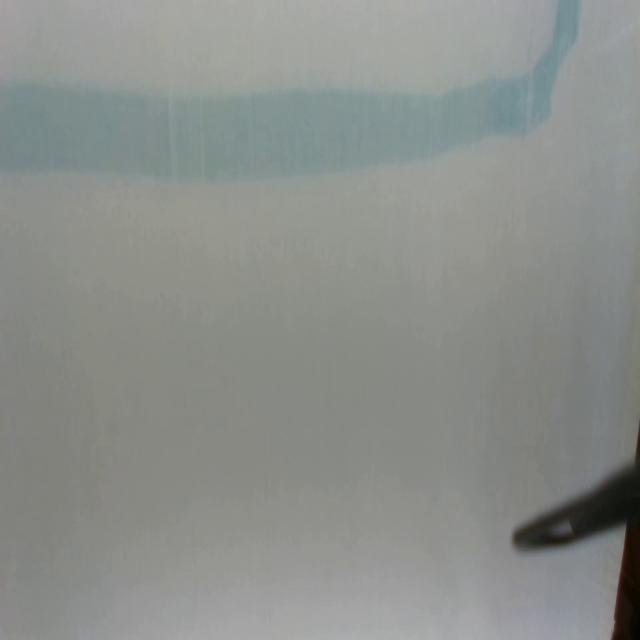color bleeding: (0, 0, 586, 184)
